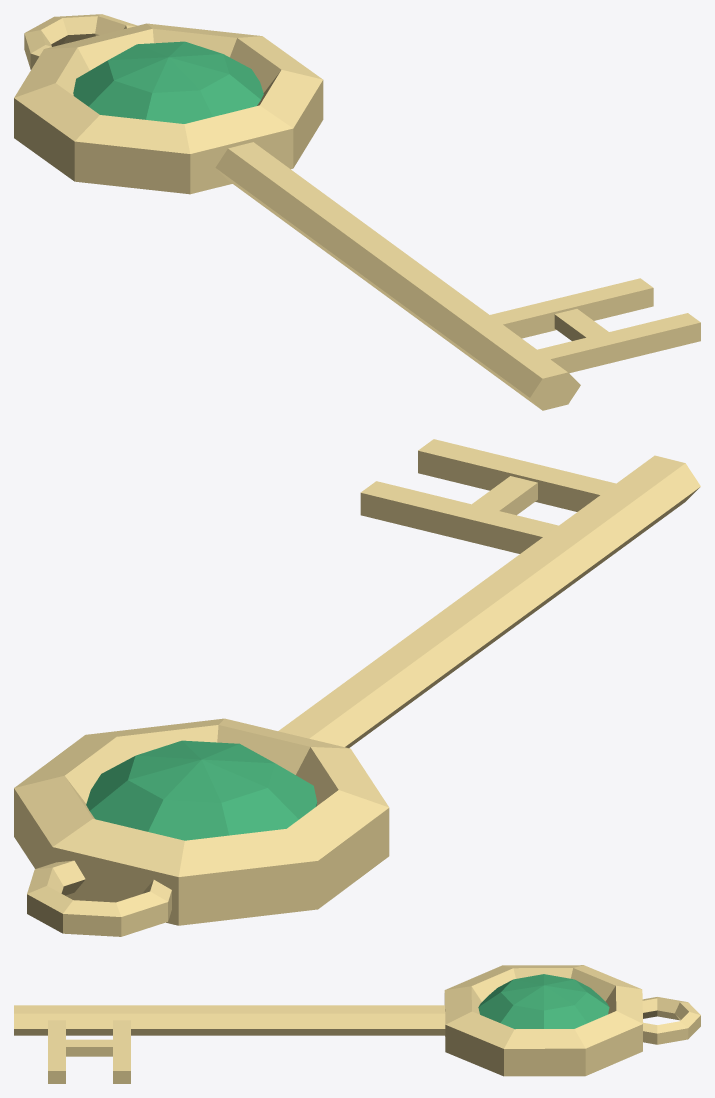
The model's file is DeluxeKey_v01.fbx.
The picture shows the model from 3 angles, top to bottom: view 1: azimuth 30°, elevation 25°; view 2: azimuth 150°, elevation 25°; view 3: azimuth 270°, elevation 25°; orthographic projection. The views are drawn at different scales.
Visible parts, largest first — view 1: DeluxeKey_v01; view 2: DeluxeKey_v01; view 3: DeluxeKey_v01.
Boxes of the visible parts, x1,y1,x2,y2 form: DeluxeKey_v01: [14, 14, 700, 410]; DeluxeKey_v01: [14, 439, 700, 936]; DeluxeKey_v01: [14, 965, 700, 1083].
Size of the model in its own units: 36.3 by 12.3 by 107.
